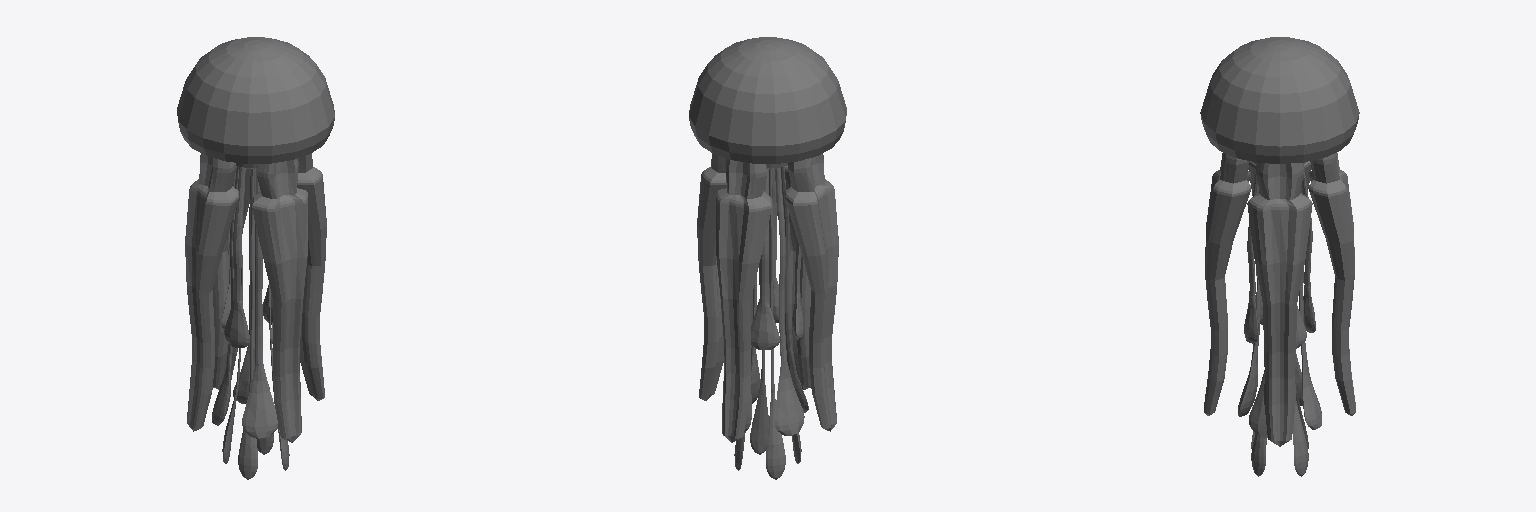
The model's file is BigJellyFIsh.obj.
3 renders of one model, left to right at view 1: azimuth 30°, elevation 25°; view 2: azimuth 150°, elevation 25°; view 3: azimuth 270°, elevation 25°, orthographic.
Visible parts, largest first — view 1: polySurface38; view 2: polySurface38; view 3: polySurface38.
Boxes of the visible parts, <box> form: polySurface38: <box>177,37,334,479</box>; polySurface38: <box>689,37,846,479</box>; polySurface38: <box>1200,37,1359,476</box>.
Size of the model in its own units: 7.3 by 21.38 by 7.3.